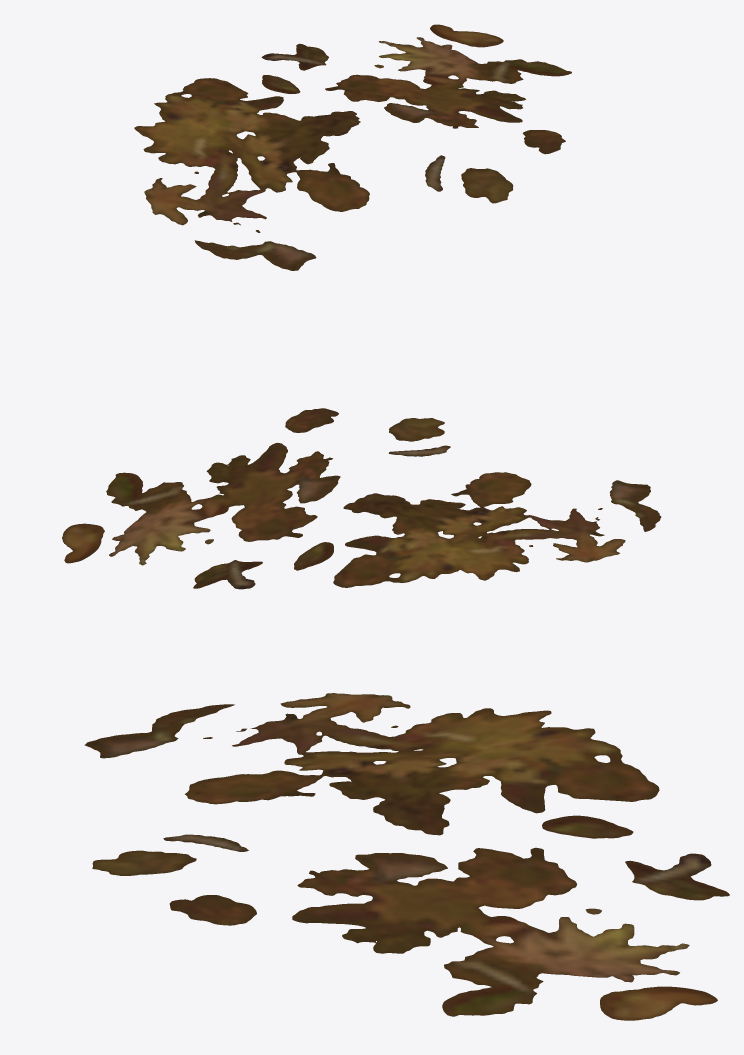
The model's file is yw_xingzilin_luoye01.FBX.
3 renders of one model, top to bottom at view 1: azimuth 30°, elevation 25°; view 2: azimuth 150°, elevation 25°; view 3: azimuth 270°, elevation 25°, orthographic. The views are drawn at different scales.
Visible parts, largest first — view 1: yw_xingzilin_luoye01; view 2: yw_xingzilin_luoye01; view 3: yw_xingzilin_luoye01.
Boxes of the visible parts, <box> form: yw_xingzilin_luoye01: <box>134,24,571,270</box>; yw_xingzilin_luoye01: <box>62,408,661,589</box>; yw_xingzilin_luoye01: <box>84,693,729,1020</box>.
Bounding box in the file's own units: 135 × 10.12 × 126.
Materials: 1 (1 with a texture image).
